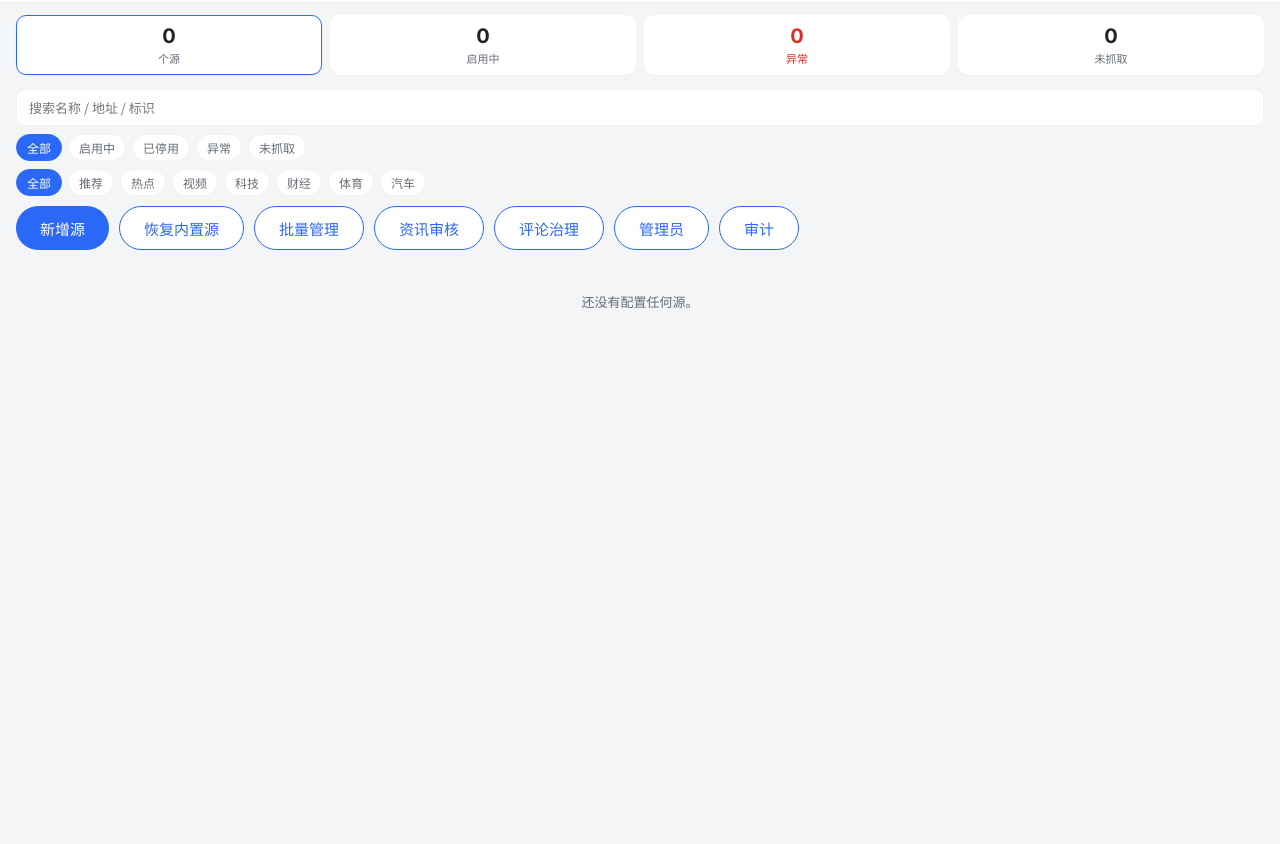
Test: views/AdminSources › 新增表单拦截非法 key，不发请求
Click the button "新增源" at (62, 228), box [16, 206, 109, 250]
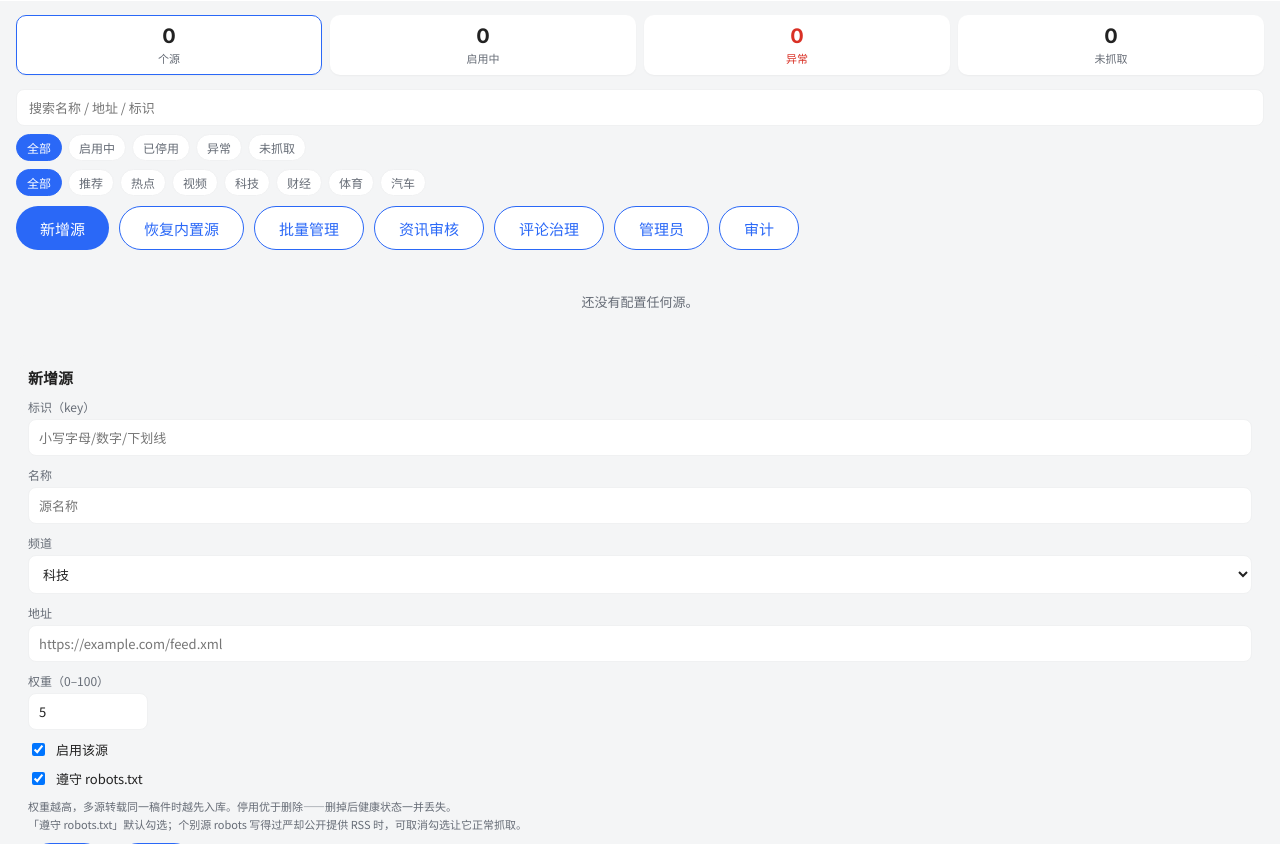
Type "Bad Key" into the field labelled "标识（key）" at (640, 438), box [28, 419, 1252, 456]
(page scrolled)
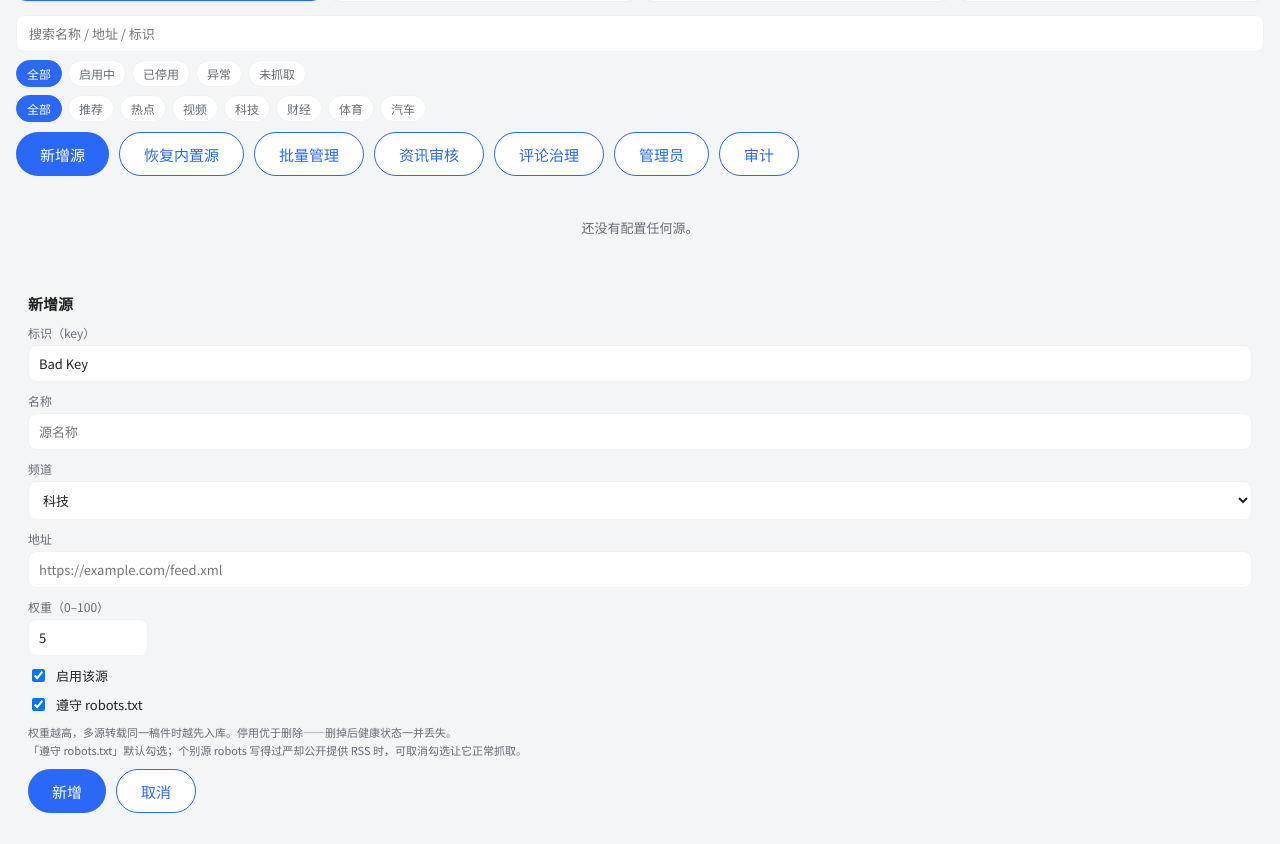
Submit the form with class "admin__form--new"
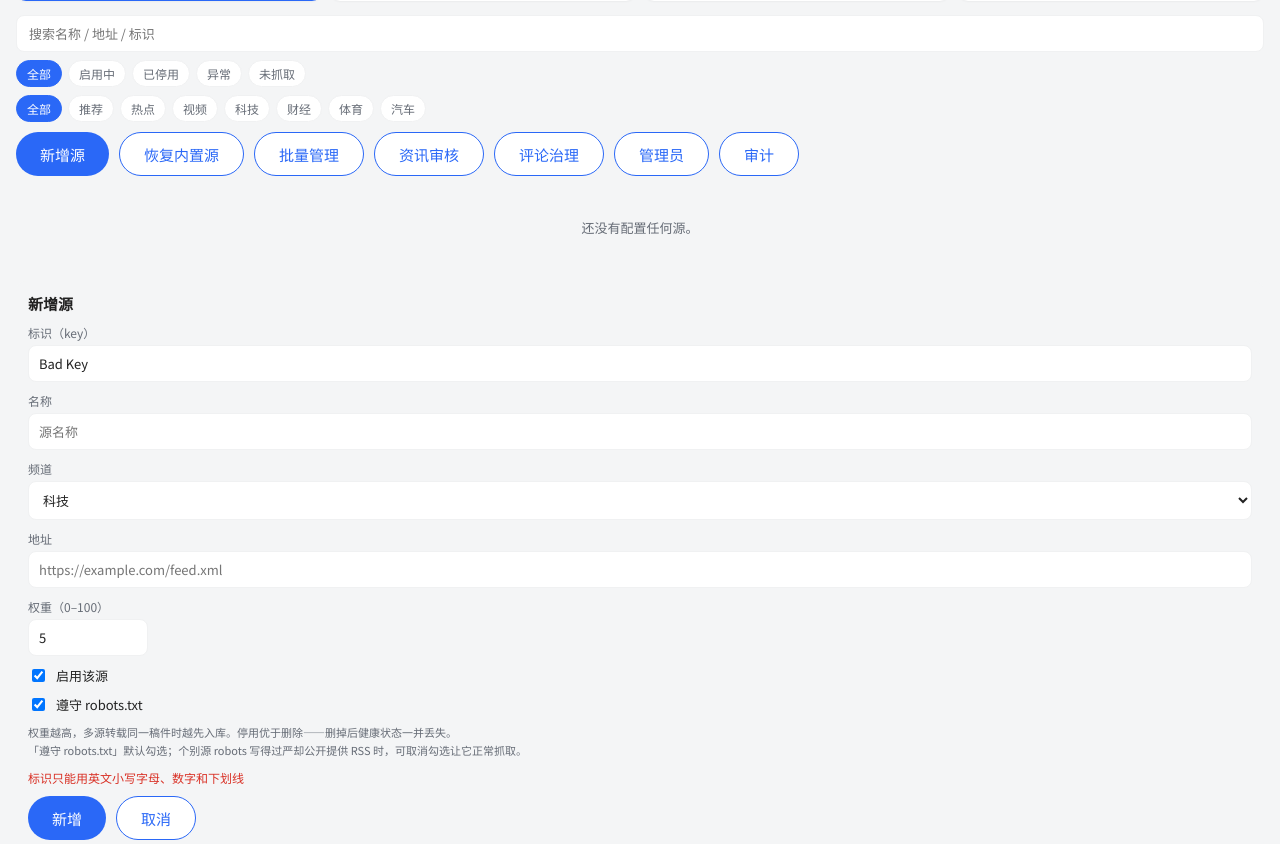
Now the text "标识只能用英文小写字母、数字和下划线" is shown, box [28, 769, 244, 786]
